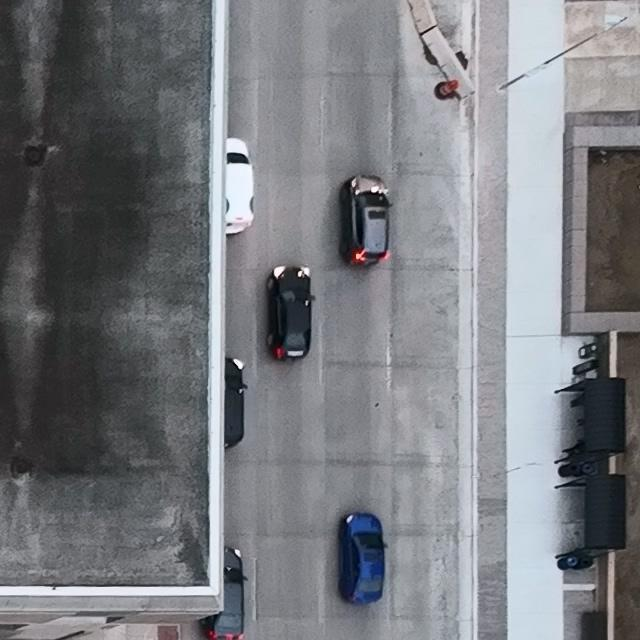car: (340, 174, 392, 267), (266, 266, 316, 362), (201, 545, 248, 640), (339, 513, 388, 604), (223, 137, 256, 235), (224, 357, 249, 449)
